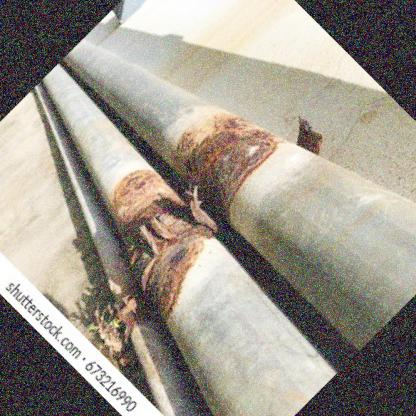burst: (125, 201, 214, 281), (183, 111, 264, 193)
